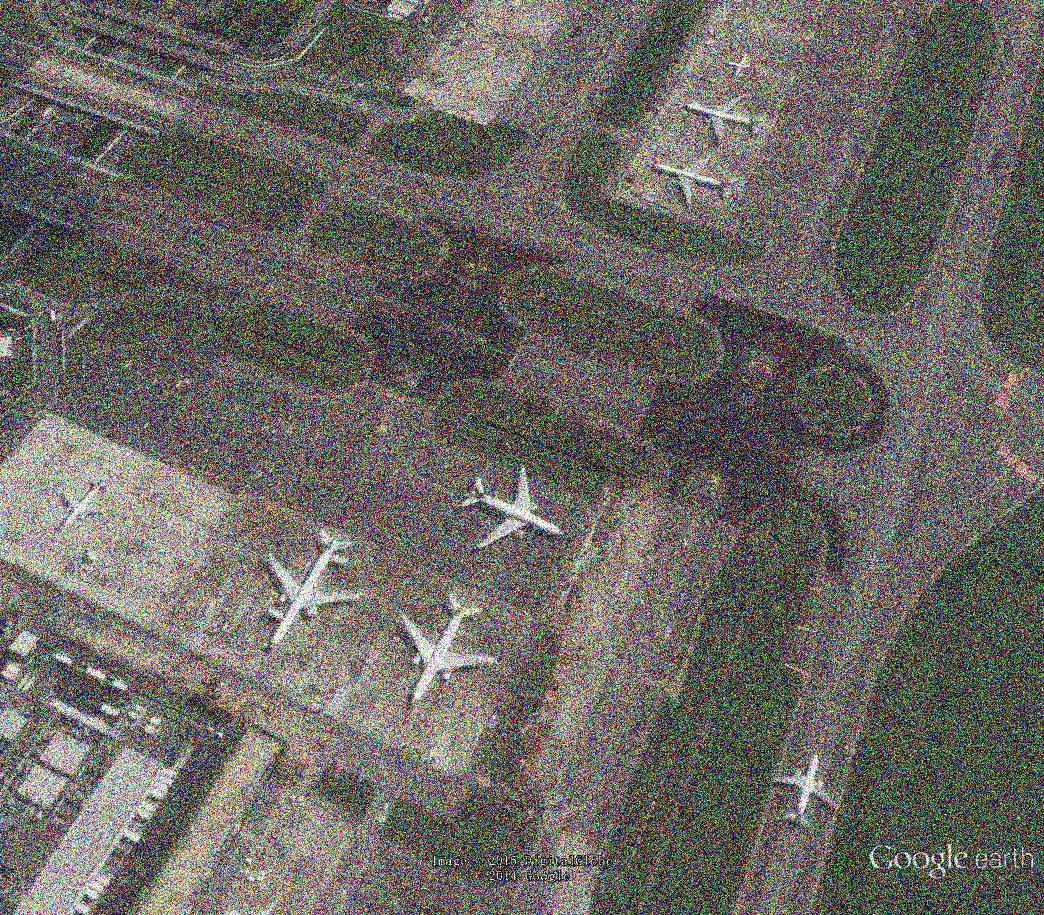aircraft: (264, 528, 375, 655), (396, 588, 505, 712), (450, 460, 568, 556), (769, 748, 847, 835), (649, 153, 742, 216), (682, 88, 769, 148), (55, 477, 117, 535), (724, 52, 768, 78)
